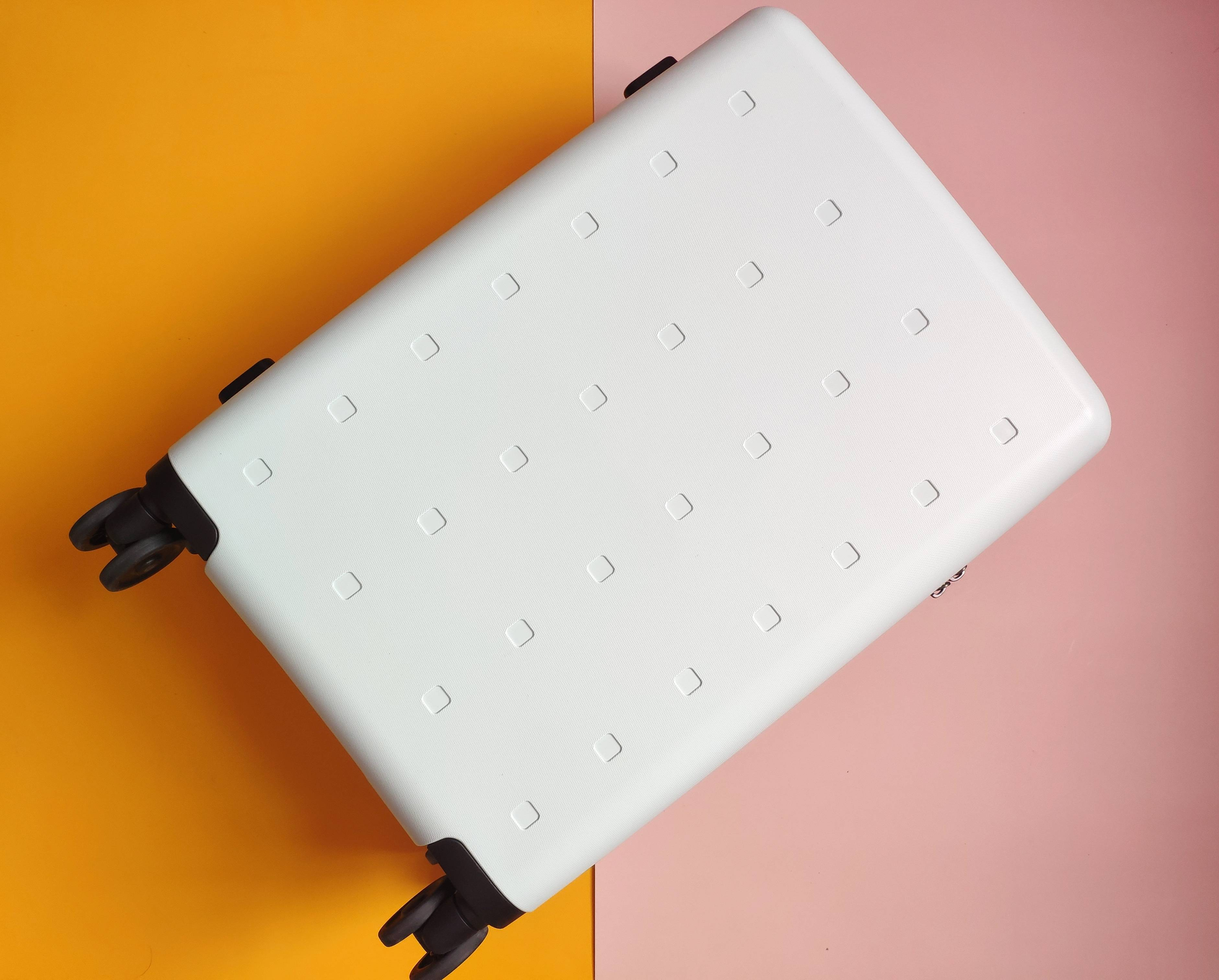box: (152, 7, 1113, 935)
wheel: (70, 481, 187, 593), (378, 869, 492, 980)
